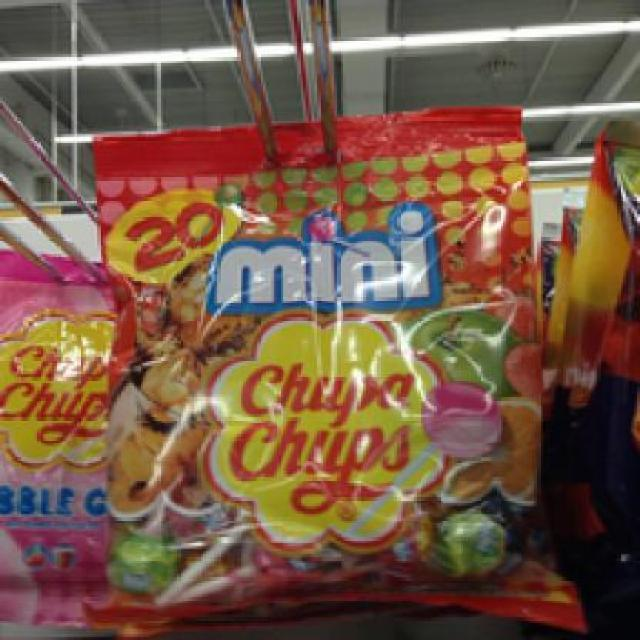Candy: (82, 126, 552, 614), (0, 253, 135, 626)
